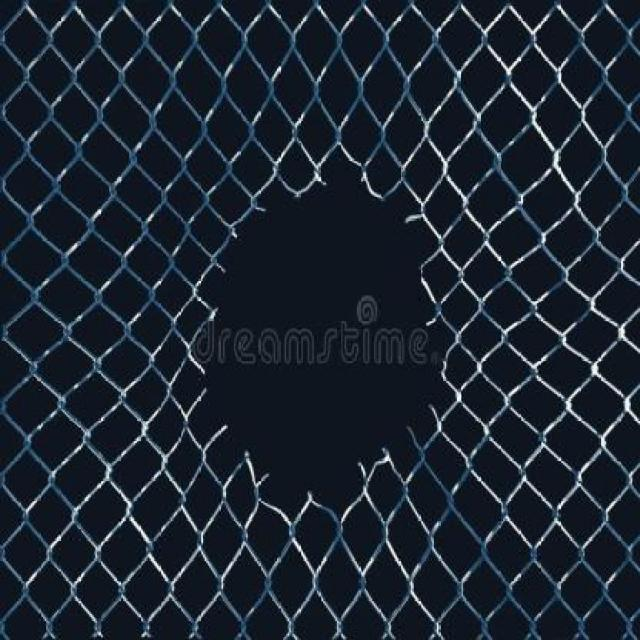fence line: (209, 173, 449, 504)
